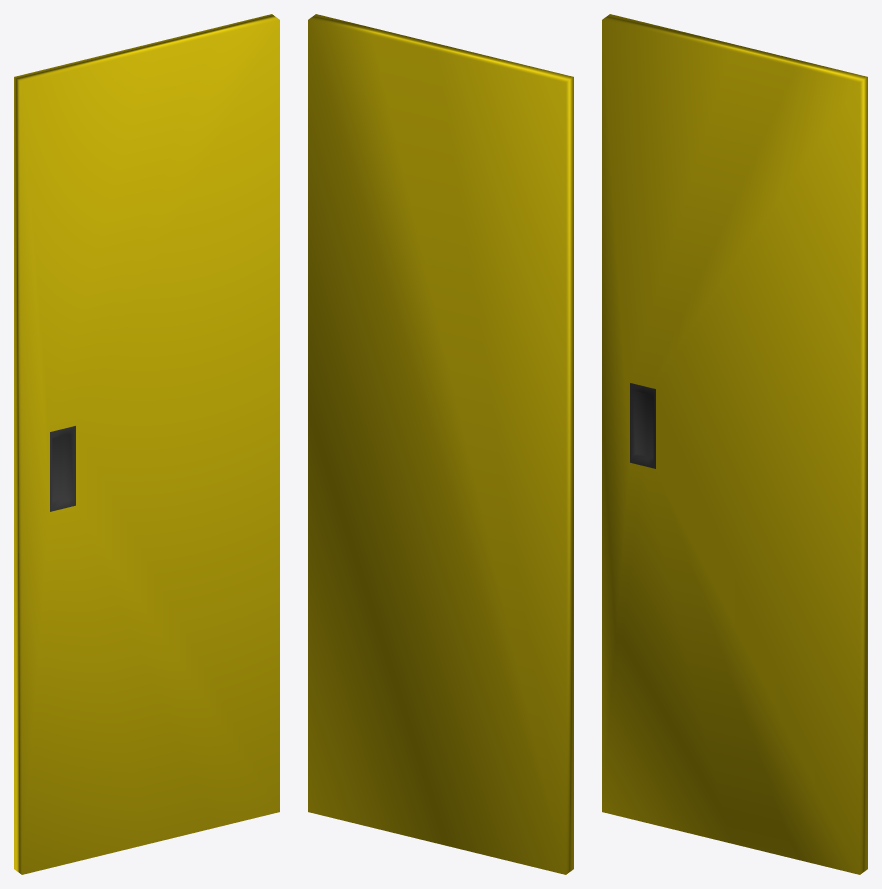
File: cabinet_right_door_hotfix.fbx
The picture shows the model from 3 angles, left to right: view 1: azimuth 30°, elevation 25°; view 2: azimuth 150°, elevation 25°; view 3: azimuth 330°, elevation 25°; orthographic projection.
Parts seen in each view (by area): view 1: Right door; view 2: Right door; view 3: Right door.
Part boxes in pixels (<box>): Right door: <box>14,14,279,874</box>; Right door: <box>308,14,573,874</box>; Right door: <box>602,14,867,874</box>.
Size of the model in its own units: 101 by 296 by 5.4.
